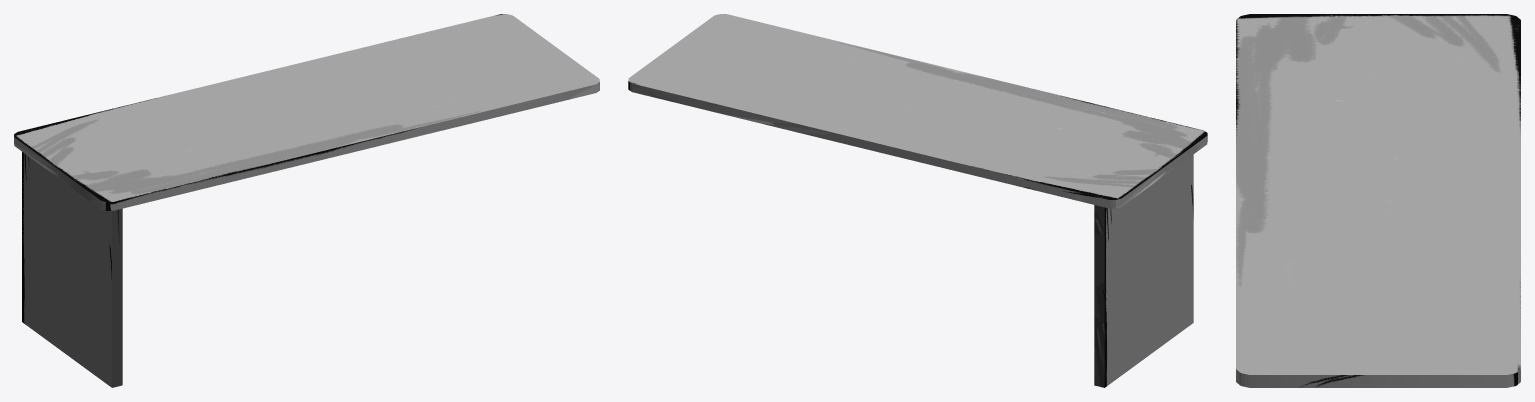
File: SM_Table02.fbx
3 renders of one model, left to right at view 1: azimuth 30°, elevation 25°; view 2: azimuth 150°, elevation 25°; view 3: azimuth 270°, elevation 25°, orthographic. The views are drawn at different scales.
Visible parts, largest first — view 1: Table; view 2: Table; view 3: Table.
Part boxes in pixels (<box>): Table: <box>14,14,599,387</box>; Table: <box>628,14,1207,387</box>; Table: <box>1236,14,1520,387</box>.
Size of the model in its own units: 240 by 88 by 80.
